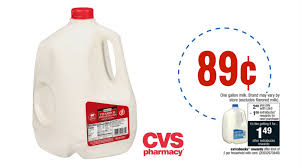milk: (35, 6, 138, 155)
